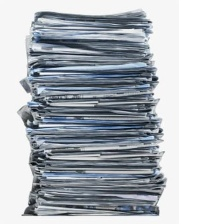book: (13, 5, 171, 220)
